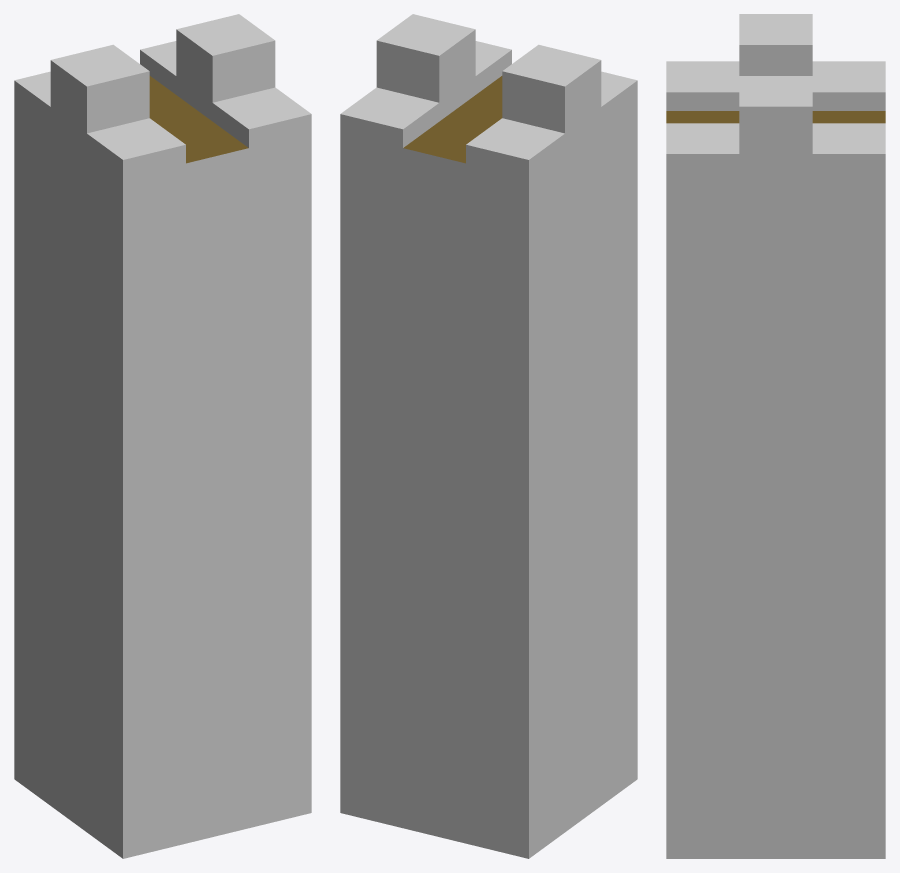
Rendered from Brick_Wall_Straight.fbx.
3 renders of one model, left to right at view 1: azimuth 30°, elevation 25°; view 2: azimuth 150°, elevation 25°; view 3: azimuth 270°, elevation 25°, orthographic.
Visible parts, largest first — view 1: Brick_Wall_Straight; view 2: Brick_Wall_Straight; view 3: Brick_Wall_Straight.
Boxes of the visible parts, x1,y1,x2,y2 form: Brick_Wall_Straight: (14, 14, 311, 858); Brick_Wall_Straight: (340, 14, 637, 858); Brick_Wall_Straight: (666, 14, 885, 858).
Bounding box in the file's own units: 200 × 756 × 200.
